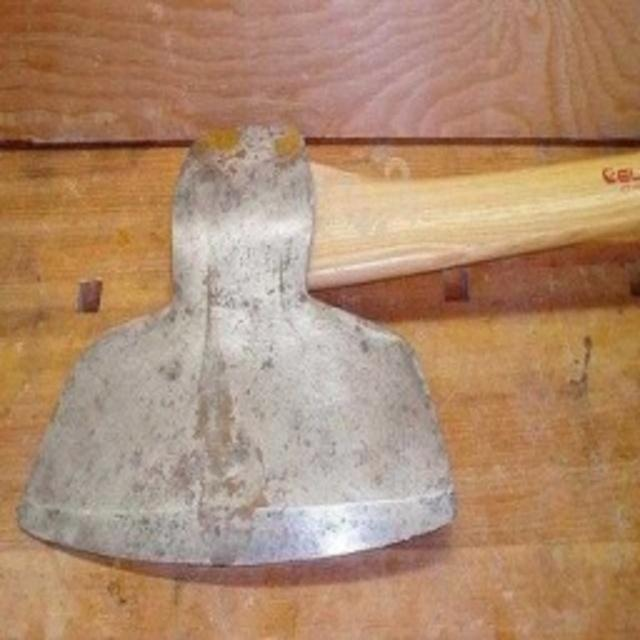ax: (11, 122, 640, 580)
